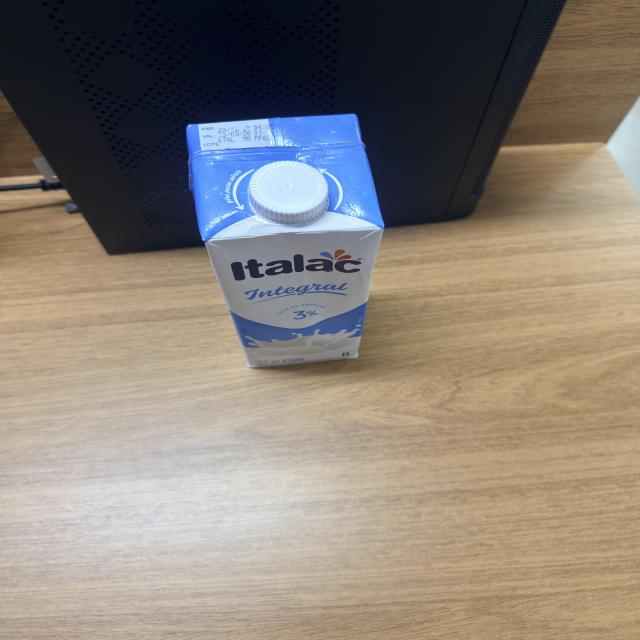Caixa de Leite: (185, 114, 387, 364)
